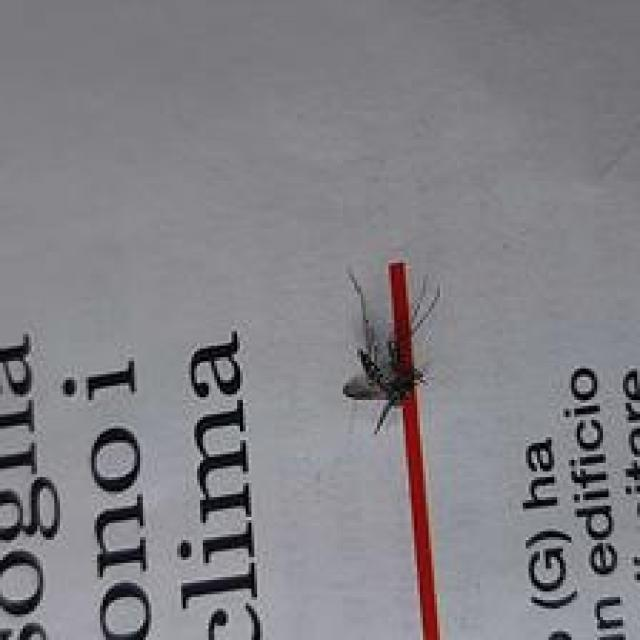Aedes albopictus: (340, 260, 451, 640)
